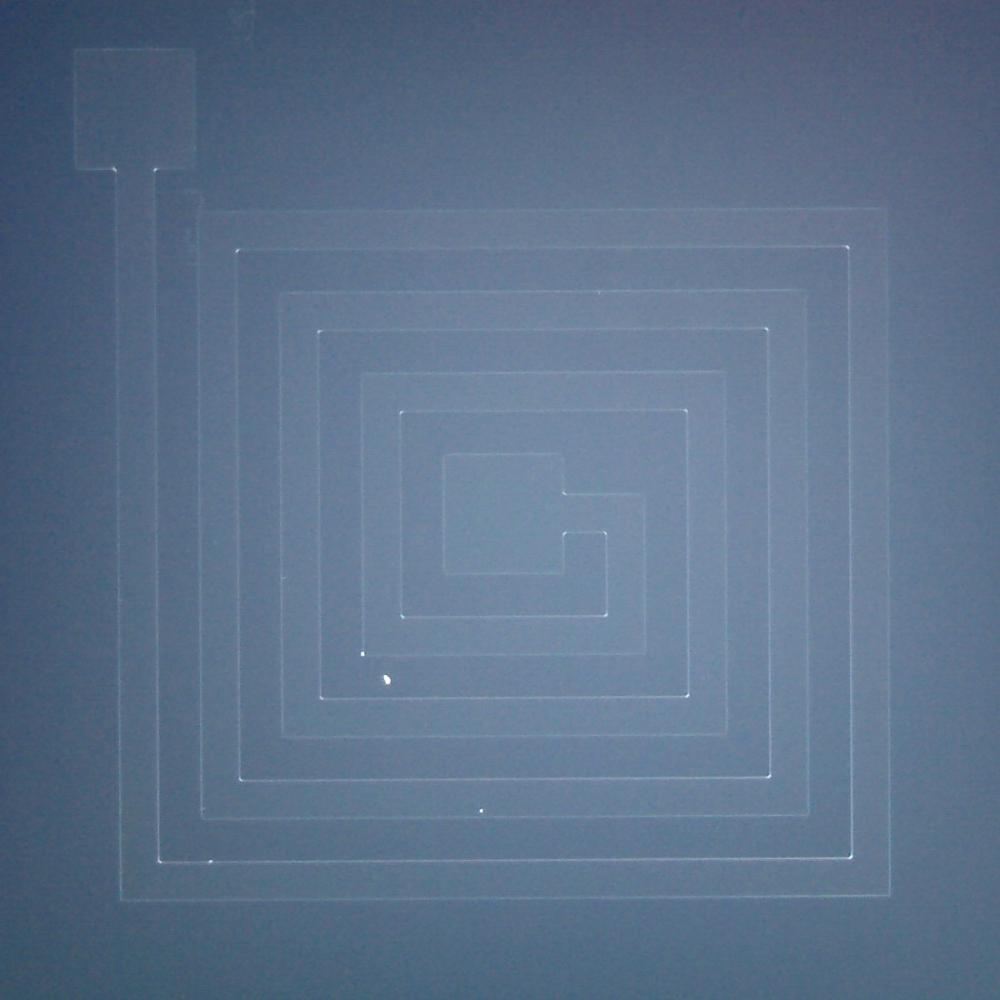dot: (382, 675, 392, 684), (479, 809, 484, 814), (360, 652, 365, 656), (208, 859, 212, 863)
